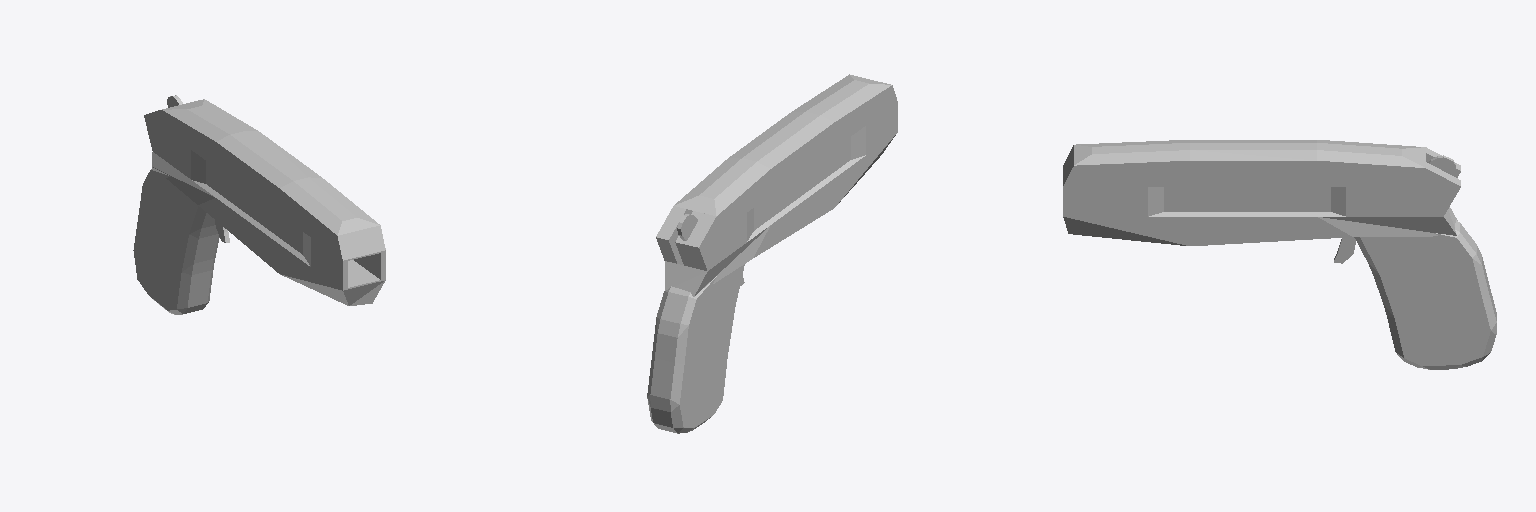
Rendered from gun.obj.
3 views of the same model, side by side, from view 1: azimuth 30°, elevation 25°; view 2: azimuth 150°, elevation 25°; view 3: azimuth 270°, elevation 25° (orthographic).
Parts seen in each view (by area): view 1: Grid.001, Grid; view 2: Grid.001, Grid; view 3: Grid.001, Grid.
Boxes of the visible parts, <box> form: Grid.001: <box>144,99,385,305</box>; Grid: <box>133,167,219,314</box>; Grid.001: <box>656,74,897,296</box>; Grid: <box>647,264,744,433</box>; Grid.001: <box>1063,140,1460,245</box>; Grid: <box>1354,220,1496,369</box>.
Size of the model in its own units: 0.2618 by 1.27 by 2.28.